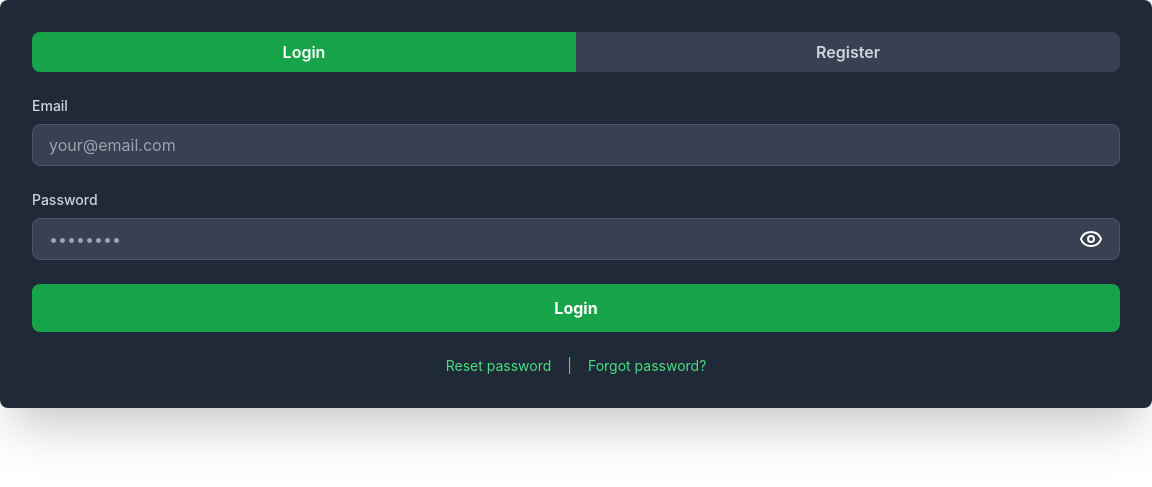
Login Component › shows password validation error on invalid password
Step 1. Type "test@test.com" into the field labelled "Email" → (576, 145), box 32,124 -> 1120,166
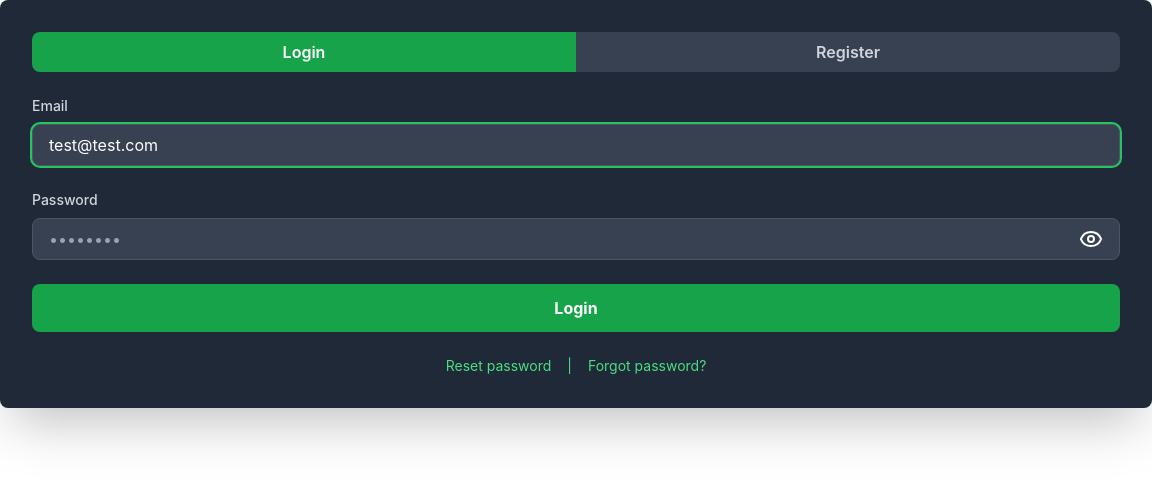
Step 2. Type "abc" into the password field with placeholder "••••••••" → (560, 239), box 49,227 -> 1071,251
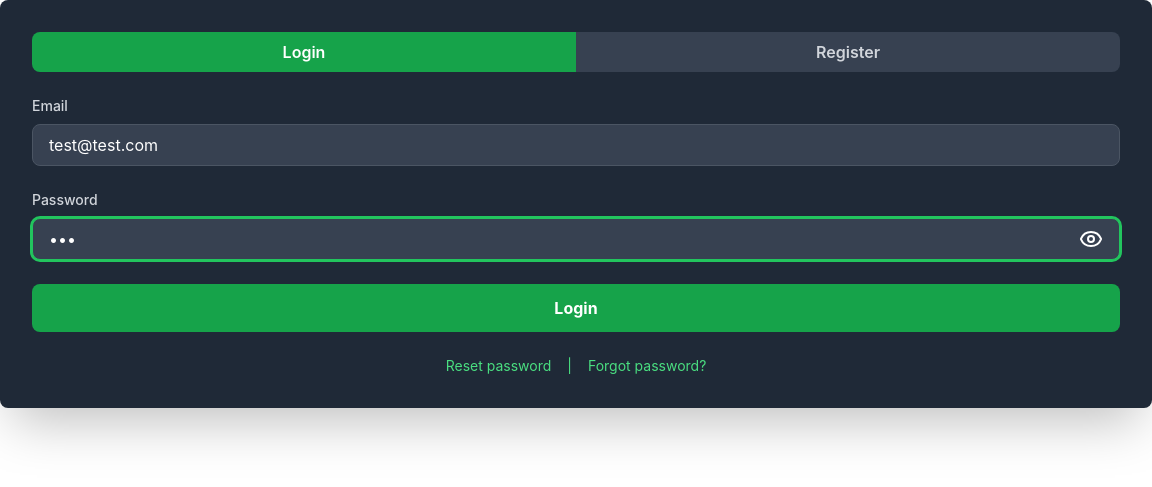
Step 3. Click the button with test id "login-submit-button" → click(576, 308), box 32,284 -> 1120,332
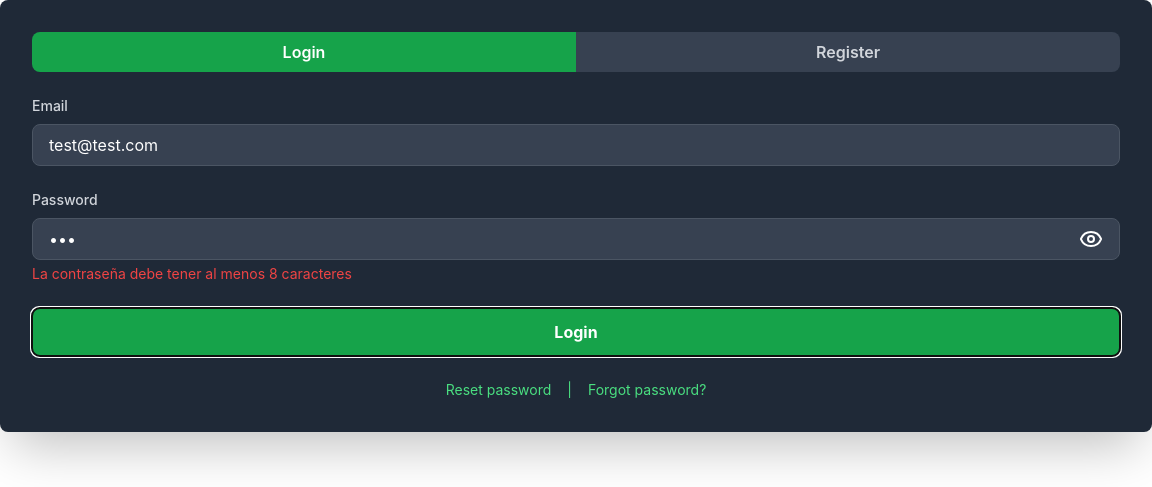
expect the text "La contraseña debe tener al menos 8 caracteres" is shown: met, box 32,265 -> 352,282
